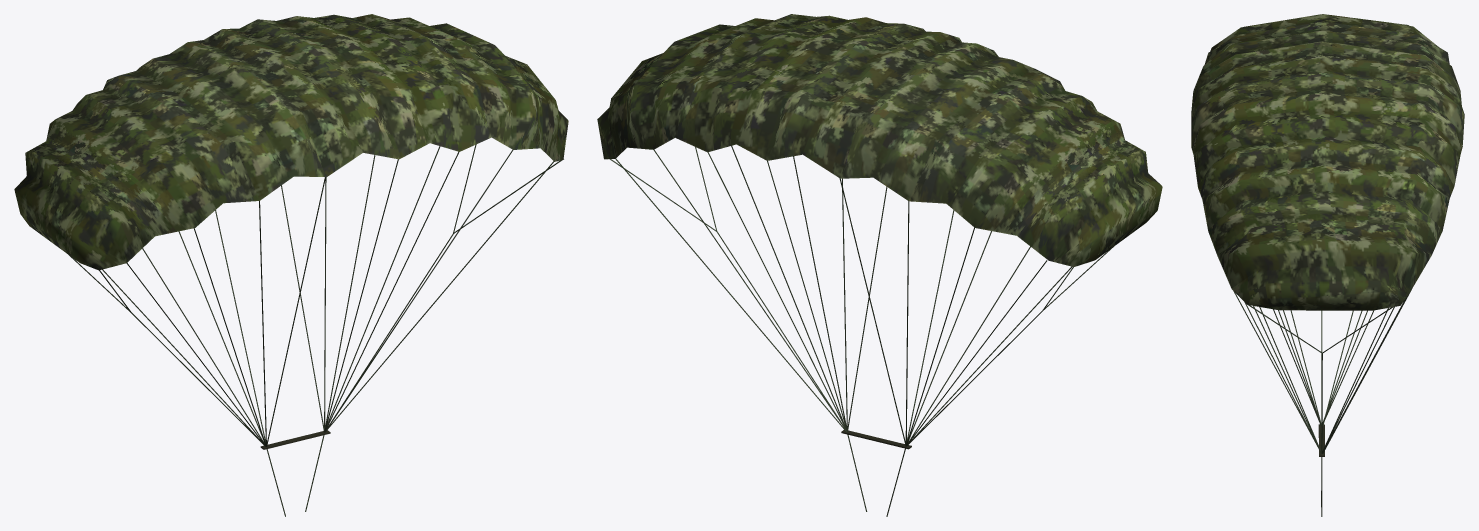
Rendered from ParachuteSimple.fbx.
The picture shows the model from 3 angles, left to right: view 1: azimuth 30°, elevation 25°; view 2: azimuth 150°, elevation 25°; view 3: azimuth 270°, elevation 25°; orthographic projection. The views are drawn at different scales.
Parts seen in each view (by area): view 1: Parachute_Vehicle_AirDrop; view 2: Parachute_Vehicle_AirDrop; view 3: Parachute_Vehicle_AirDrop.
Boxes of the visible parts, bbox=[...] form: Parachute_Vehicle_AirDrop: bbox=[14, 14, 568, 516]; Parachute_Vehicle_AirDrop: bbox=[597, 14, 1162, 516]; Parachute_Vehicle_AirDrop: bbox=[1191, 14, 1464, 516].
Size of the model in its own units: 714 by 636 by 354.
1 material, 1 textured.
